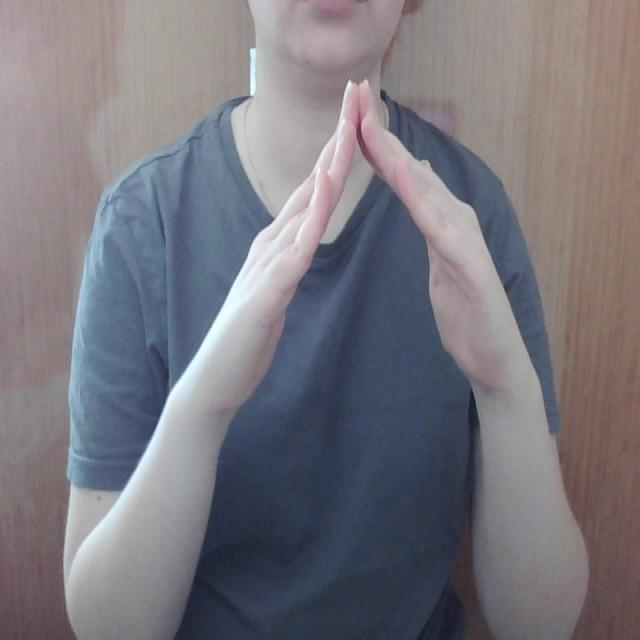Ev: (208, 76, 517, 380)
